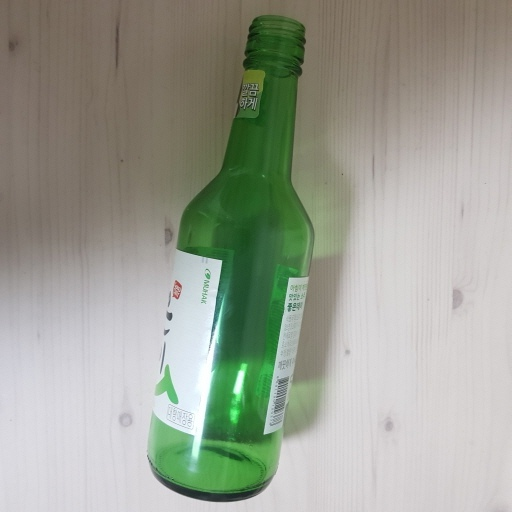Glass_0: (149, 10, 322, 503)
